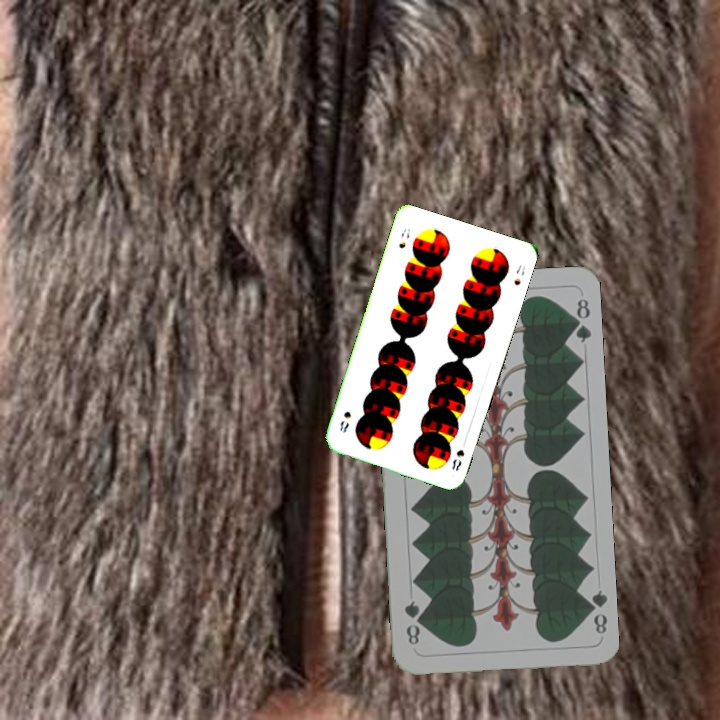G8: (581, 586, 610, 636)
S8: (448, 445, 467, 473), (395, 224, 413, 251)
